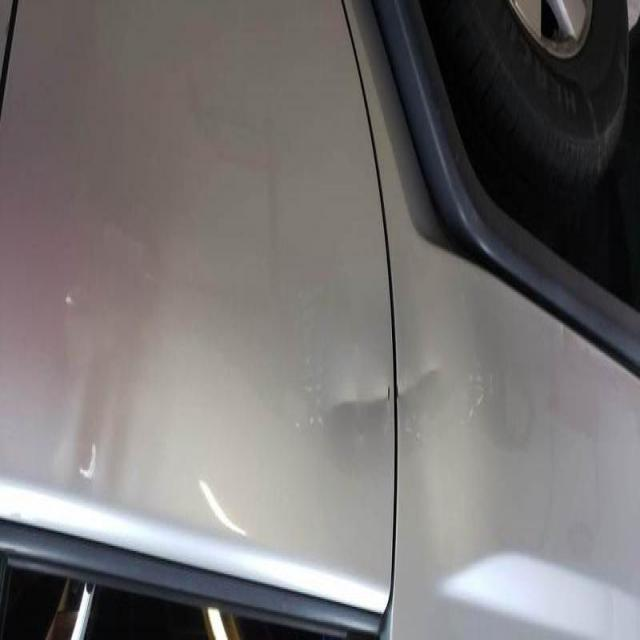dent: (312, 319, 464, 506)
